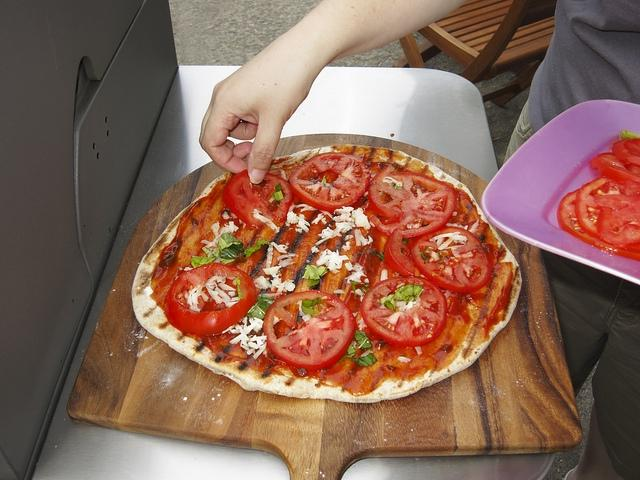tomato: (263, 290, 357, 371), (368, 164, 458, 239), (165, 262, 256, 336), (361, 276, 448, 347), (556, 188, 640, 260), (411, 226, 492, 293), (289, 152, 370, 212), (222, 170, 294, 228), (574, 176, 626, 244), (594, 194, 640, 249), (384, 228, 416, 276), (589, 152, 640, 182), (612, 139, 640, 166)
